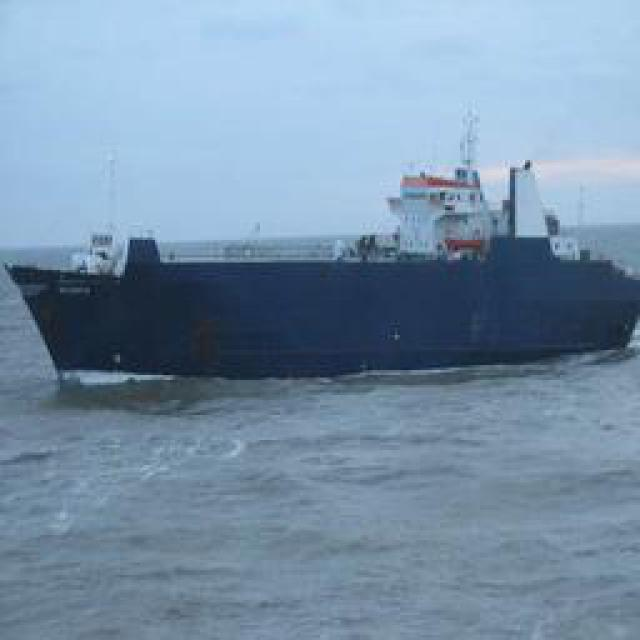Ship: (15, 135, 633, 380)
